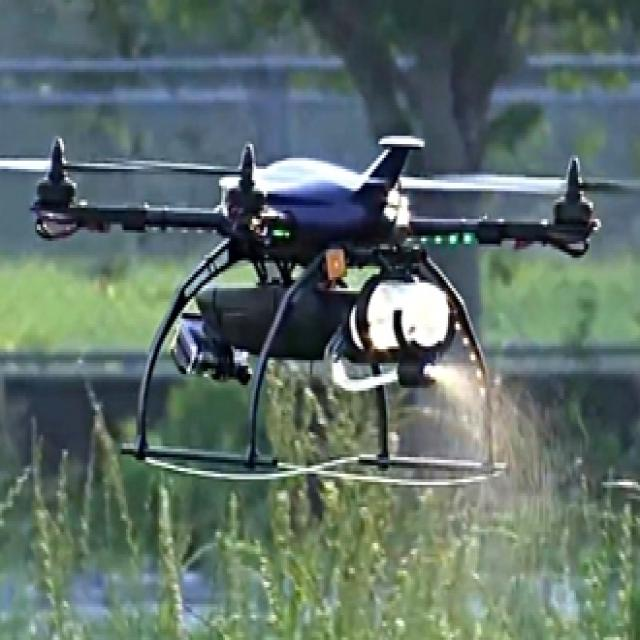drone: (0, 105, 640, 366)
